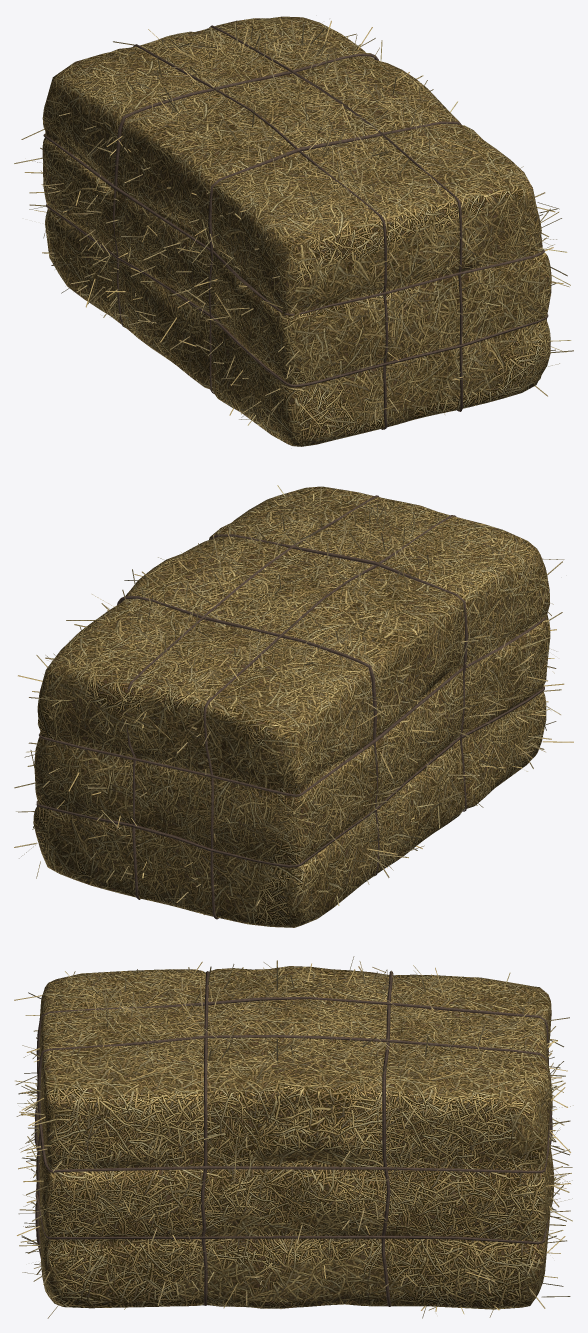
The model's file is HayBale.fbx.
3 views of the same model, one above another, from view 1: azimuth 30°, elevation 25°; view 2: azimuth 150°, elevation 25°; view 3: azimuth 270°, elevation 25° (orthographic).
Parts seen in each view (by area): view 1: SM_UKR_HayBale_01.mo; view 2: SM_UKR_HayBale_01.mo; view 3: SM_UKR_HayBale_01.mo.
Part boxes in pixels (x1,y1,x2,y2): SM_UKR_HayBale_01.mo: (14, 16, 573, 446); SM_UKR_HayBale_01.mo: (14, 485, 573, 927); SM_UKR_HayBale_01.mo: (14, 956, 573, 1318).
Bounding box in the file's own units: 124 × 93.61 × 174.
